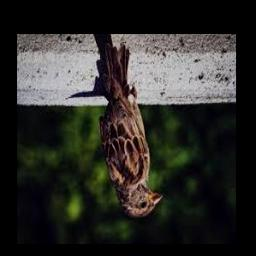Sparrow: (98, 43, 162, 219)
